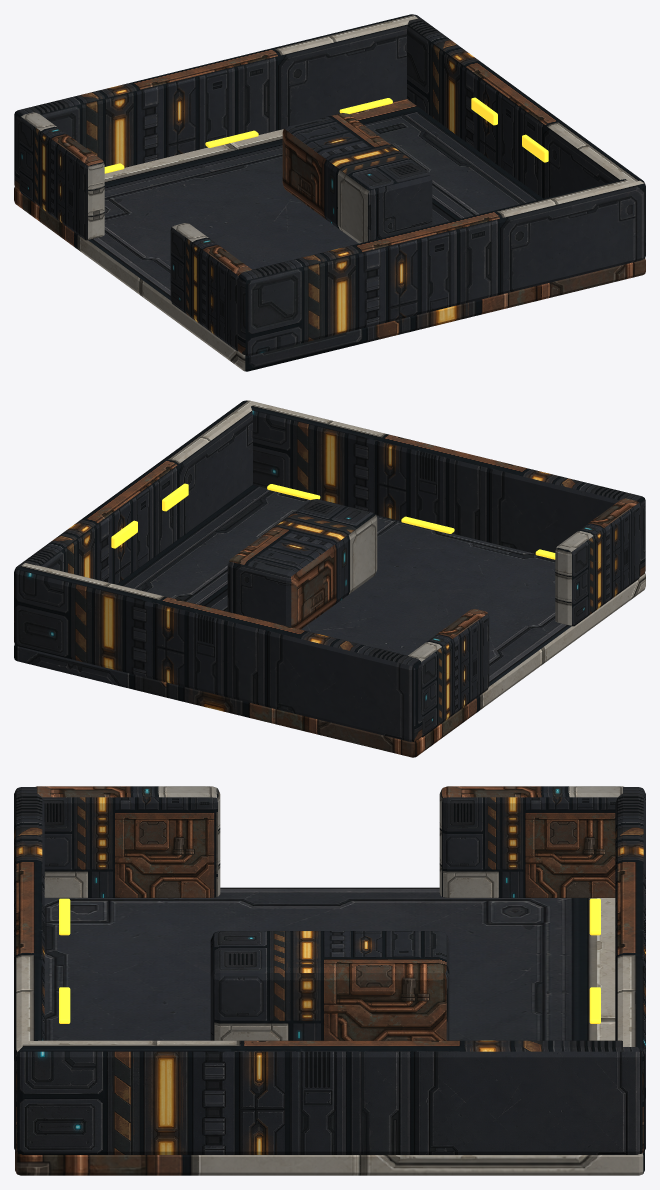
Rendered from EastSalvageVaultModel.fbx.
3 views of the same model, one above another, from view 1: azimuth 30°, elevation 25°; view 2: azimuth 150°, elevation 25°; view 3: azimuth 270°, elevation 25° (orthographic). The views are drawn at different scales.
Visible parts, largest first — view 1: Vault Floor, Vault South Wall, Vault North Wall, Vault East Wall, Vault Route Splitter, Vault West North Gate, Vault West South Gate, Vault Energy Guides; view 2: Vault Floor, Vault North Wall, Vault South Wall, Vault East Wall, Vault Route Splitter, Vault West South Gate, Vault West North Gate, Vault Energy Guides; view 3: Vault East Wall, Vault Floor, Vault Route Splitter, Vault West North Gate, Vault West South Gate, Vault North Wall, Vault South Wall, Vault Energy Guides.
Part boxes in pixels (<box>): Vault Floor: <box>14,99,645,371</box>; Vault South Wall: <box>237,179,645,355</box>; Vault North Wall: <box>14,14,417,190</box>; Vault East Wall: <box>407,14,645,255</box>; Vault Route Splitter: <box>282,113,432,243</box>; Vault West North Gate: <box>19,112,104,240</box>; Vault West South Gate: <box>170,223,251,351</box>; Vault Energy Guides: <box>104,97,548,173</box>; Vault Floor: <box>14,485,645,757</box>; Vault North Wall: <box>14,563,422,741</box>; Vault South Wall: <box>247,400,645,576</box>; Vault East Wall: <box>14,400,255,641</box>; Vault Route Splitter: <box>227,499,377,629</box>; Vault West South Gate: <box>555,498,640,626</box>; Vault West North Gate: <box>408,609,489,737</box>; Vault Energy Guides: <box>111,483,555,559</box>; Vault East Wall: <box>17,1040,642,1154</box>; Vault Floor: <box>15,887,644,1175</box>; Vault Route Splitter: <box>210,931,449,1040</box>; Vault West North Gate: <box>439,786,623,897</box>; Vault West South Gate: <box>36,786,220,897</box>; Vault North Wall: <box>615,787,645,1152</box>; Vault South Wall: <box>14,787,44,1152</box>; Vault Energy Guides: <box>59,898,600,1023</box>.
Bounding box in the file's own units: 6.62 × 1.48 × 6.62.
Materials: 4 (3 with a texture image).
